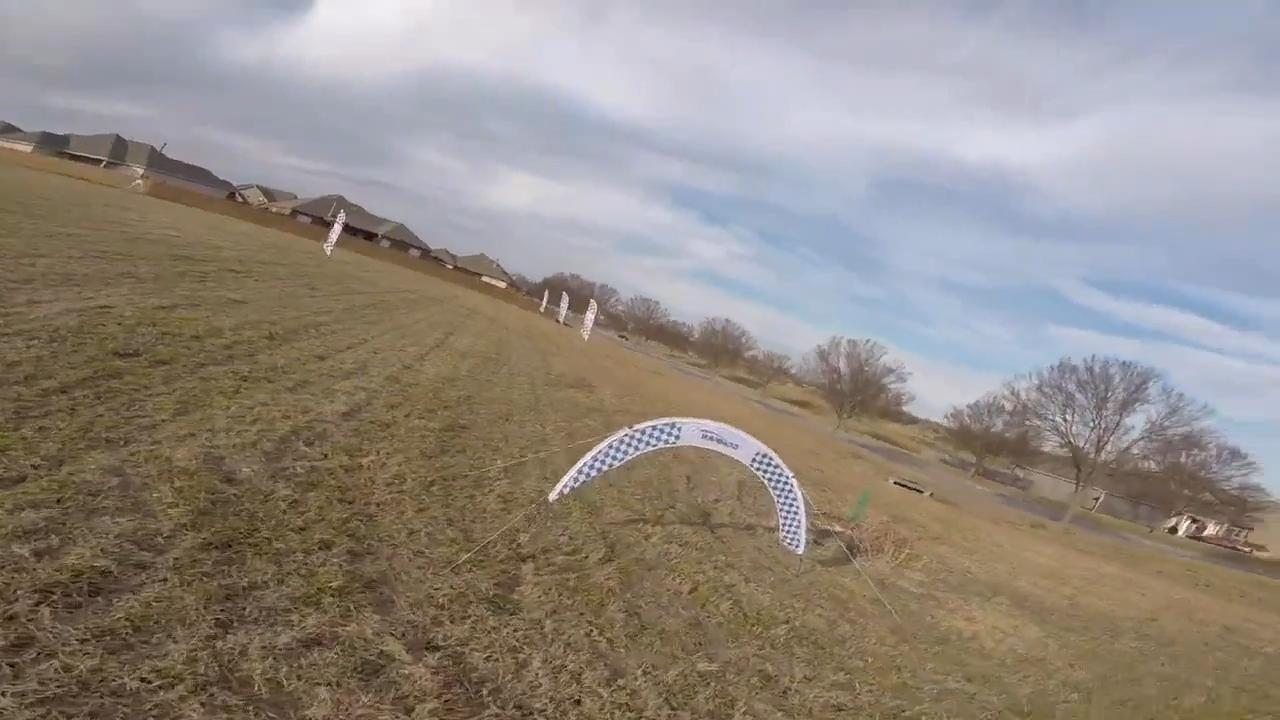gate: (545, 415, 813, 571)
